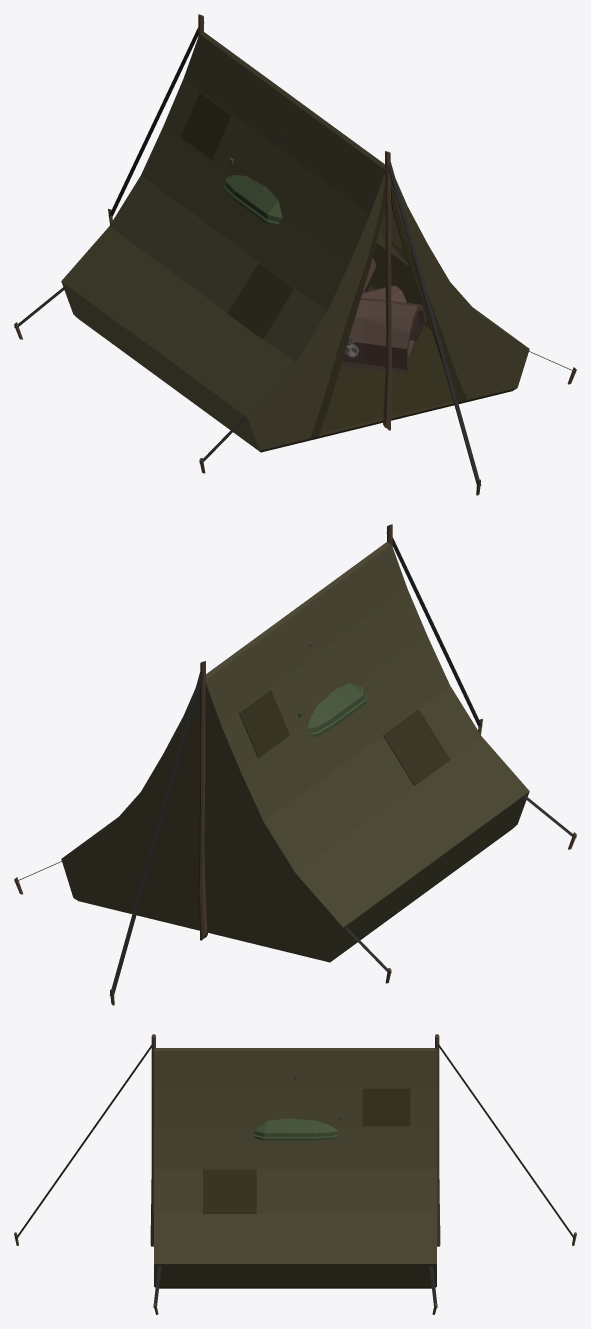
The model's file is items.glb.
3 views of the same model, one above another, from view 1: azimuth 30°, elevation 25°; view 2: azimuth 150°, elevation 25°; view 3: azimuth 270°, elevation 25° (orthographic). The views are drawn at different scales.
Visible parts, largest first — view 1: Tent, Bonfire, Trashcan; view 2: Tent, Trashcan; view 3: Tent, Trashcan.
Boxes of the visible parts, left/top/right/bottom form: Tent: left=14, top=14, right=576, bottom=495; Bonfire: left=341, top=258, right=426, bottom=373; Trashcan: left=223, top=158, right=282, bottom=226; Tent: left=14, top=524, right=576, bottom=1005; Trashcan: left=297, top=683, right=366, bottom=737; Tent: left=14, top=1034, right=576, bottom=1314; Trashcan: left=253, top=1116, right=342, bottom=1140.
Bounding box in the file's own units: 1.88 × 1.33 × 3.2.
